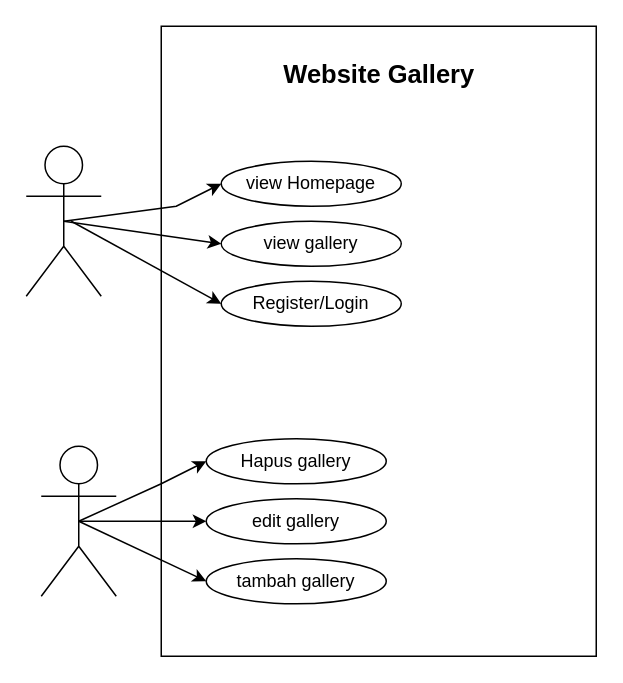
Some shapes in this 623 by 683 pixel diagram are drawn without their labels. The shapes that lost their labels are listed below. From the top down, each one's box as (x1, y1, x2, y2) in pixels, then its label:
(25, 145, 101, 296): User
(40, 445, 116, 596): Admin
